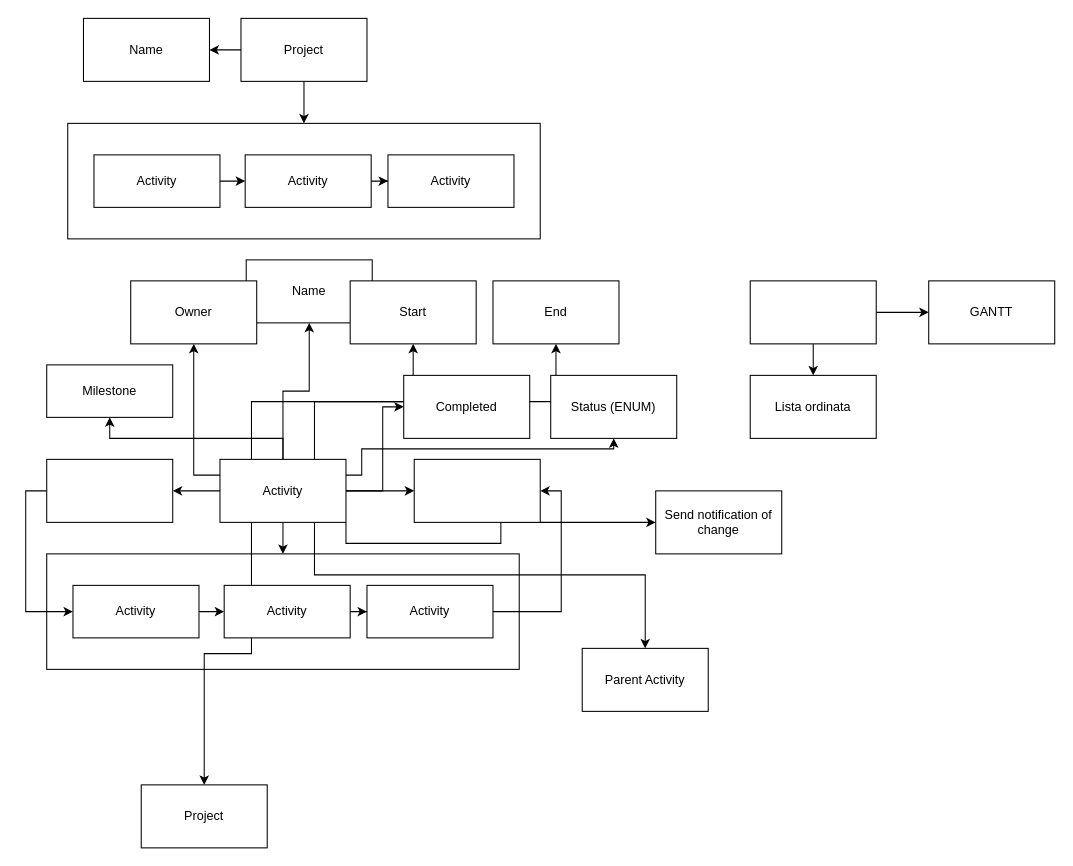
The diagram is 1073 pixels wide and 866 high, and some of its shapes have lost their labels. Each missing label, with the centre of its shape:
Client: the point at 812,312
Input: the point at 109,490
Output: the point at 476,490
